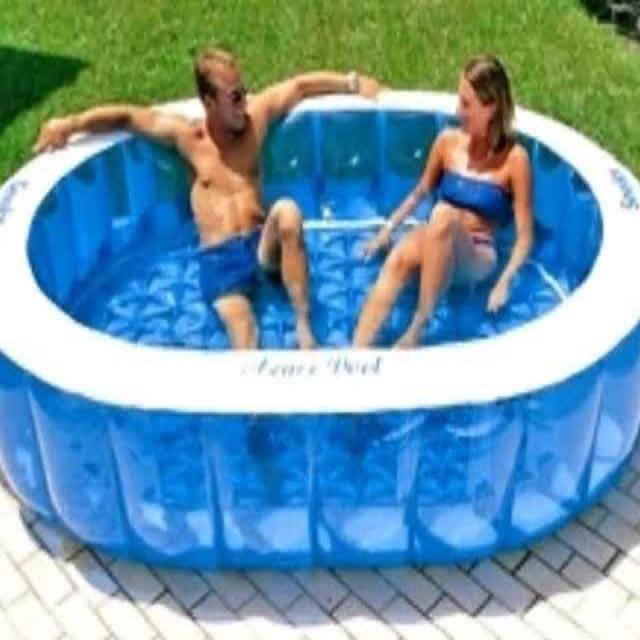other: (8, 343, 622, 415), (555, 102, 631, 344), (0, 146, 58, 375)
